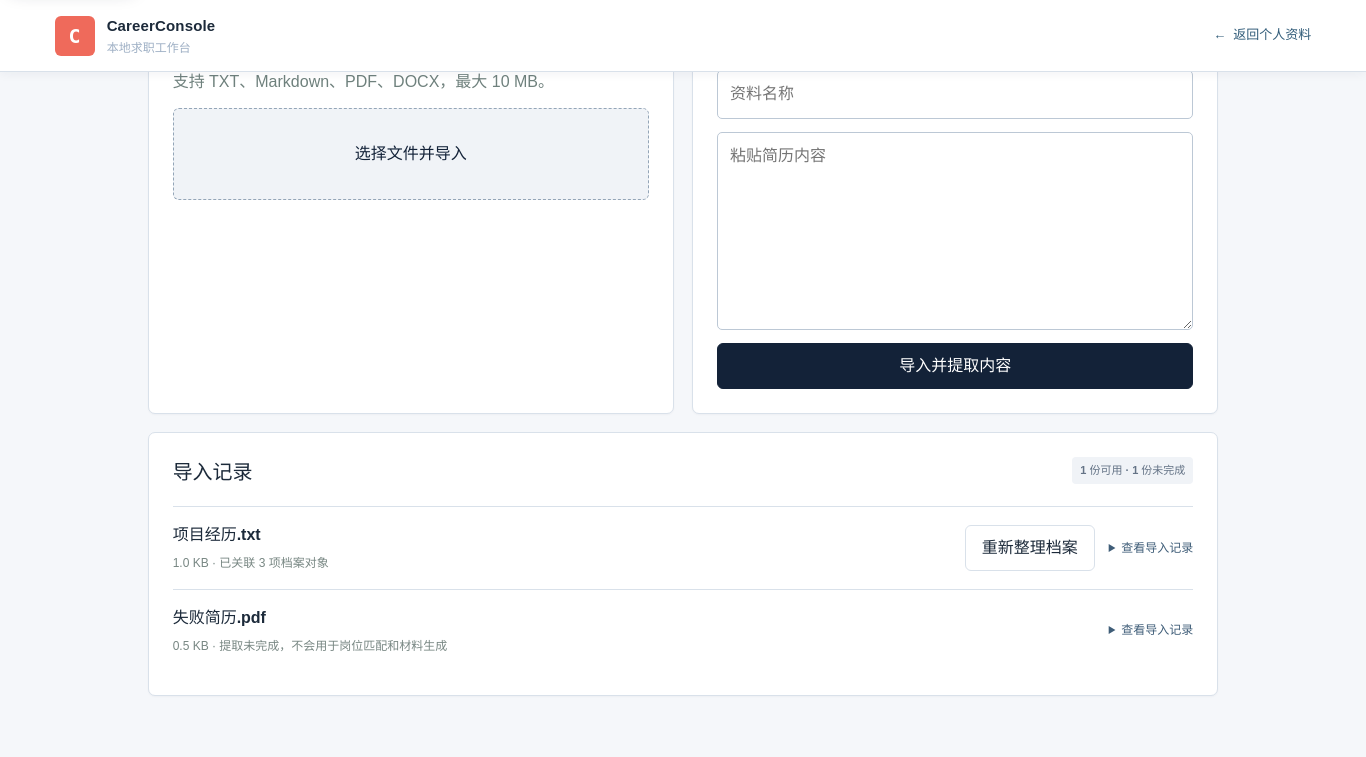
Career app shell › keeps document processing metadata behind a user-facing disclosure
(page scrolled)
expect the file field labelled "选择文件并导入" is shown: met, box [173, 108, 649, 200]
expect the heading "导入记录" is shown: met, box [173, 457, 253, 488]
Click the heading "查看导入记录" in the row of "项目经历.txt" at x=1151, y=548, box [1109, 539, 1193, 557]
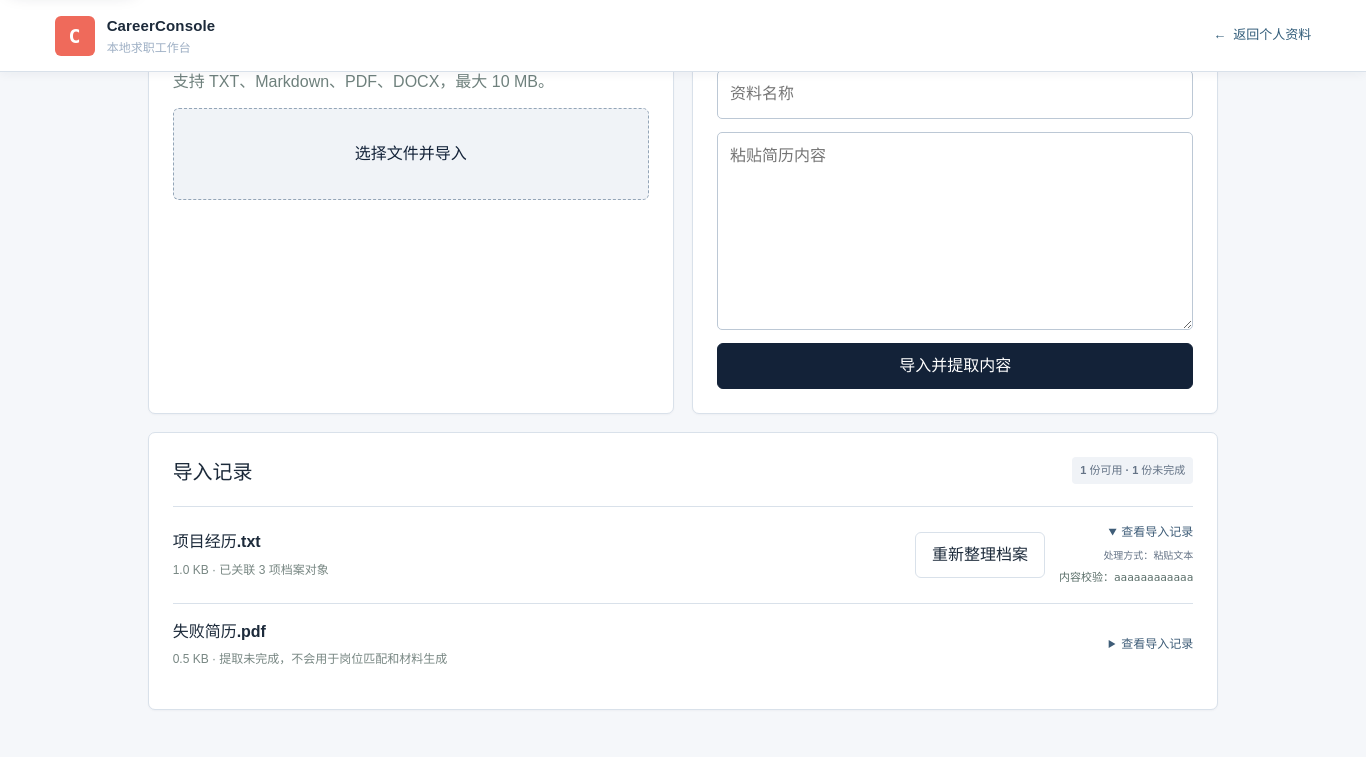
expect the text "处理方式：粘贴文本" is shown: met, box [1103, 550, 1193, 561]
Click the button "重新整理档案" at x=980, y=555, box [915, 532, 1045, 578]
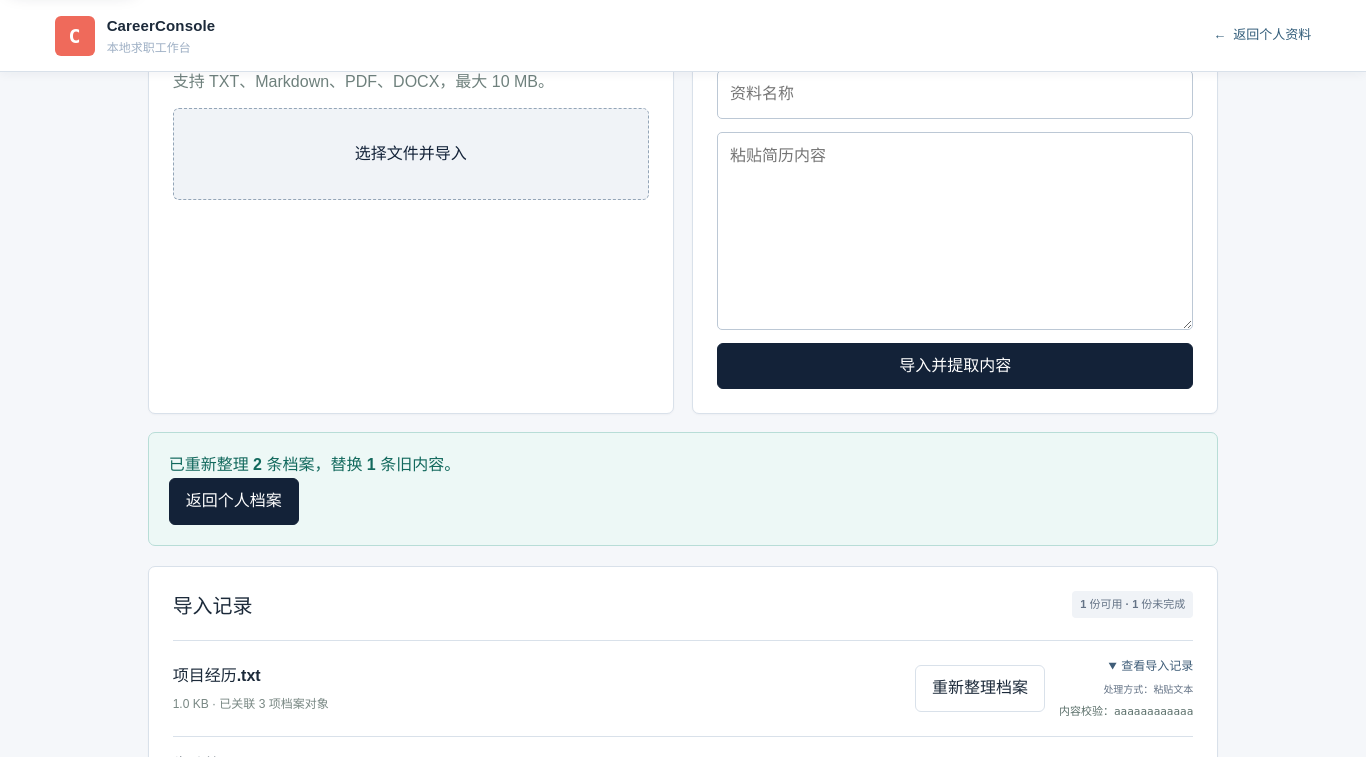
expect the text "已重新整理 2 条档案，替换 1 条旧内容。" is shown: met, box [169, 456, 460, 473]
